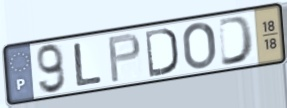9: (34, 42, 68, 95)
D: (216, 14, 256, 68), (143, 26, 180, 79)
L: (72, 41, 104, 89)
O: (181, 20, 218, 71)
P: (106, 31, 143, 85)
